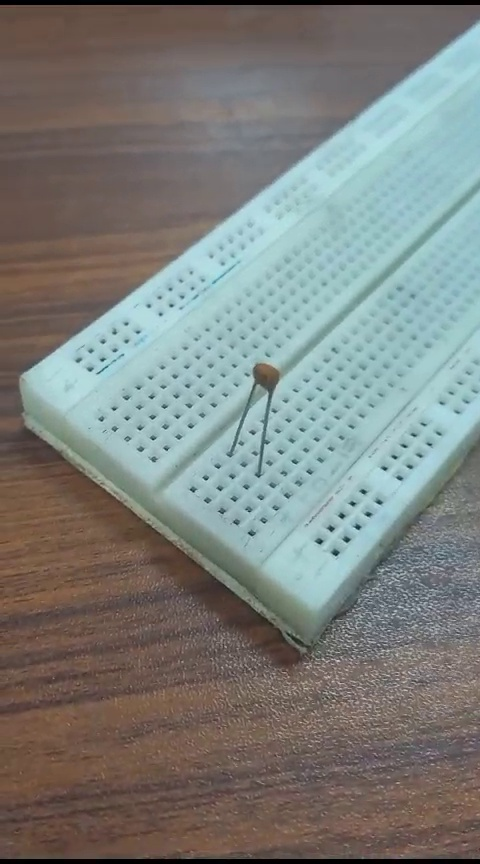ceramic capacitor: (235, 355, 300, 477)
